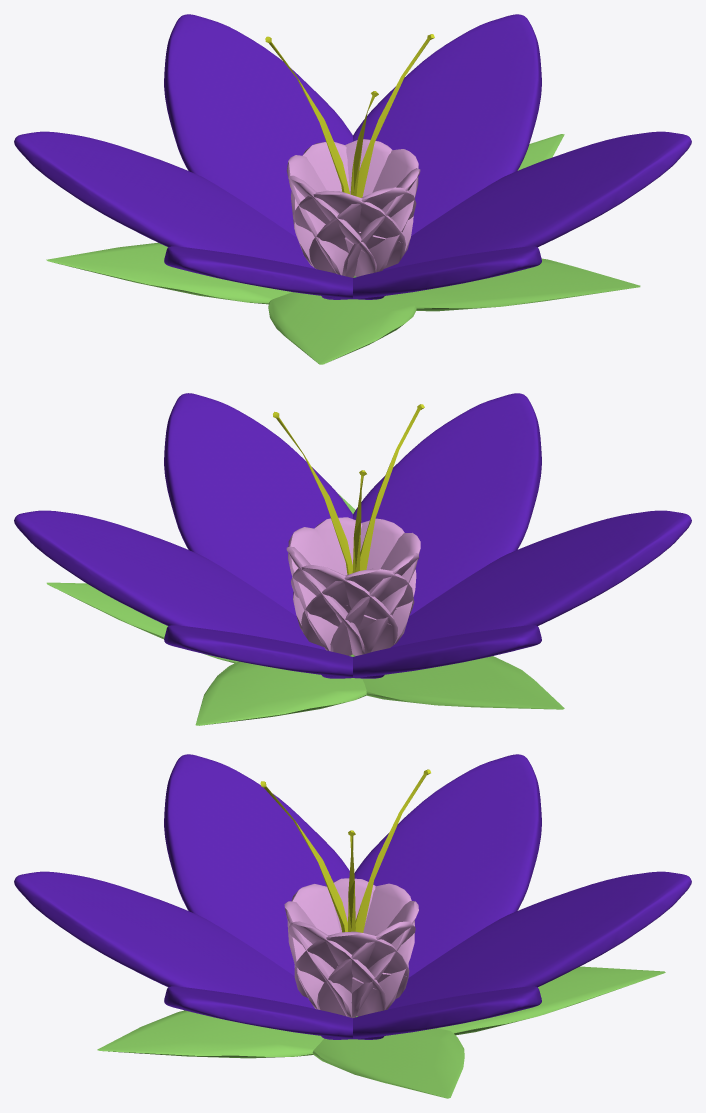
File: NightDewberry.fbx
3 views of the same model, one above another, from view 1: azimuth 30°, elevation 25°; view 2: azimuth 150°, elevation 25°; view 3: azimuth 270°, elevation 25° (orthographic).
Parts seen in each view (by area): view 1: Night_Dewberry; view 2: Night_Dewberry; view 3: Night_Dewberry.
Part boxes in pixels (box(x1,y1,x2,y2)): Night_Dewberry: box(14, 14, 691, 364); Night_Dewberry: box(14, 393, 691, 725); Night_Dewberry: box(14, 754, 691, 1098).
Bounding box in the file's own units: 469 × 199 × 532.
1 material, 1 textured.
